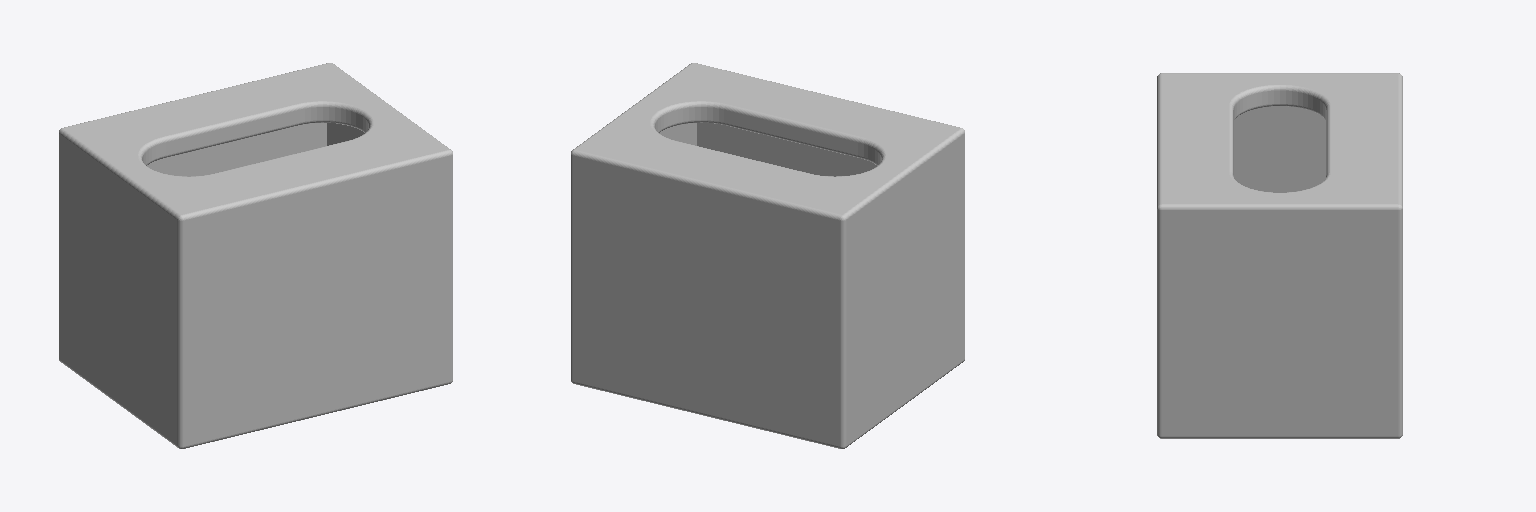
Rendered from Donation_Box.obj.
3 renders of one model, left to right at view 1: azimuth 30°, elevation 25°; view 2: azimuth 150°, elevation 25°; view 3: azimuth 270°, elevation 25°, orthographic.
Parts seen in each view (by area): view 1: Object.1; view 2: Object.1; view 3: Object.1.
Part boxes in pixels (left/top/right/bottom): Object.1: left=59, top=63, right=452, bottom=448; Object.1: left=571, top=63, right=964, bottom=448; Object.1: left=1157, top=73, right=1402, bottom=438.
Size of the model in its own units: 172 by 140 by 133.